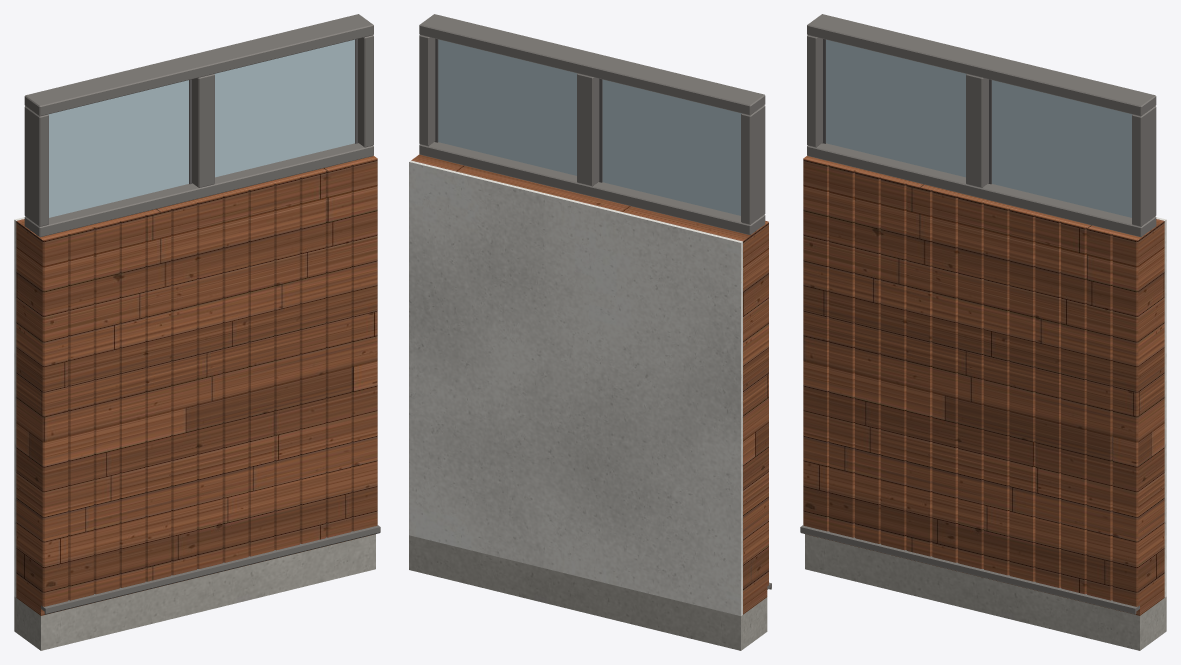
File: wall_clerestory.glb
The picture shows the model from 3 angles, left to right: view 1: azimuth 30°, elevation 25°; view 2: azimuth 150°, elevation 25°; view 3: azimuth 330°, elevation 25°; orthographic projection.
Visible parts, largest first — view 1: wall_clerestory_boards, wall_clerestory_glass, wall_clerestory_metal, wall_clerestory_concrete, wall_clerestory_plaster, wall_clerestory_dark; view 2: wall_clerestory_plaster, wall_clerestory_glass, wall_clerestory_metal, wall_clerestory_concrete, wall_clerestory_boards, wall_clerestory_dark; view 3: wall_clerestory_boards, wall_clerestory_glass, wall_clerestory_metal, wall_clerestory_concrete, wall_clerestory_plaster, wall_clerestory_dark.
Part boxes in pixels (x1,y1,x2,y2): wall_clerestory_boards: (16,156,377,615); wall_clerestory_glass: (48,39,354,217); wall_clerestory_metal: (24,14,380,614); wall_clerestory_concrete: (14,534,375,650); wall_clerestory_plaster: (14,217,24,597); wall_clerestory_dark: (189,39,358,184); wall_clerestory_plaster: (409,160,742,615); wall_clerestory_glass: (438,39,741,215); wall_clerestory_metal: (419,14,771,589); wall_clerestory_concrete: (409,535,767,650); wall_clerestory_boards: (411,154,768,614); wall_clerestory_dark: (435,38,602,182); wall_clerestory_boards: (803,156,1164,615); wall_clerestory_glass: (826,39,1132,217); wall_clerestory_metal: (800,14,1156,614); wall_clerestory_concrete: (805,534,1166,650); wall_clerestory_plaster: (1156,217,1166,597); wall_clerestory_dark: (822,39,991,184).
Bounding box in the file's own units: 2 × 3.1 × 0.322.
Materials: 6 (3 with a texture image).
